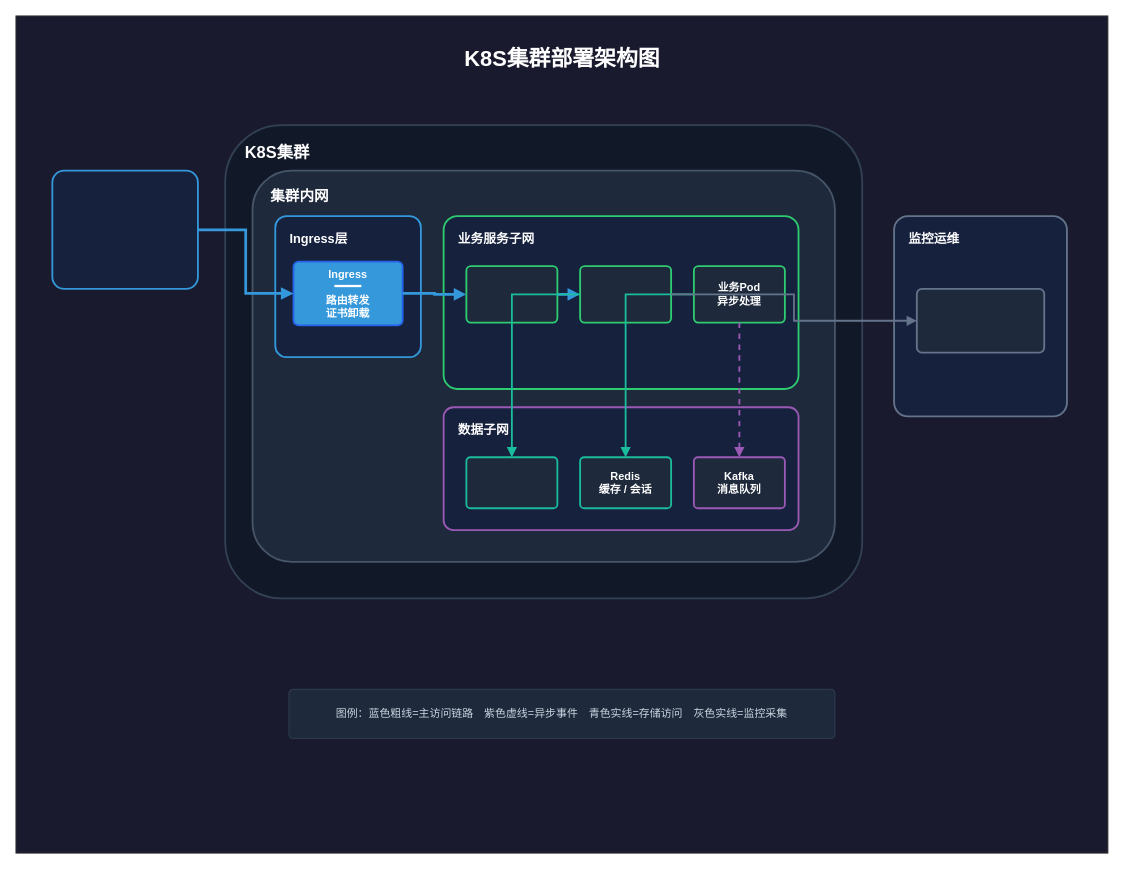
This 1124x869 diagram has some shape labels left out. Here are the shapes that lost their labels. From the top down, the centre of each, then its label:
(124,229): 外部访问 ━━━━━━ 用户终端 管理员入口
(511,294): API Gateway 鉴权 / 限流
(625,294): 业务Pod 核心服务
(980,320): Prometheus Grafana
(511,482): MySQL 主从 / 备份
